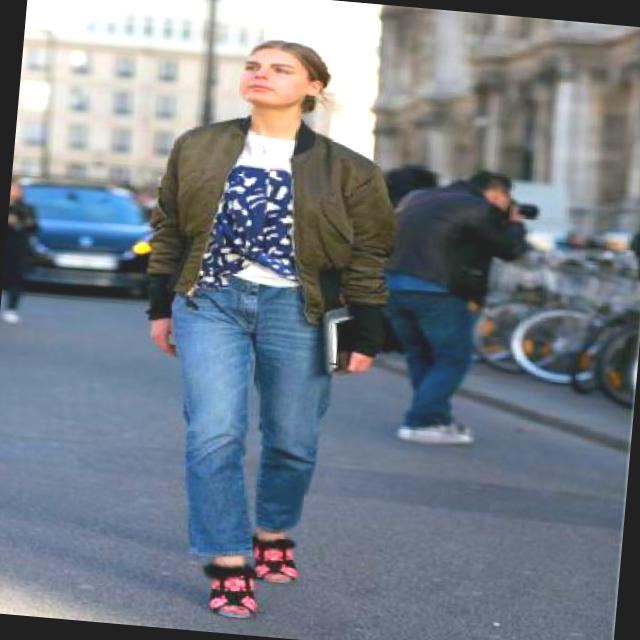Person: (84, 12, 428, 591)
